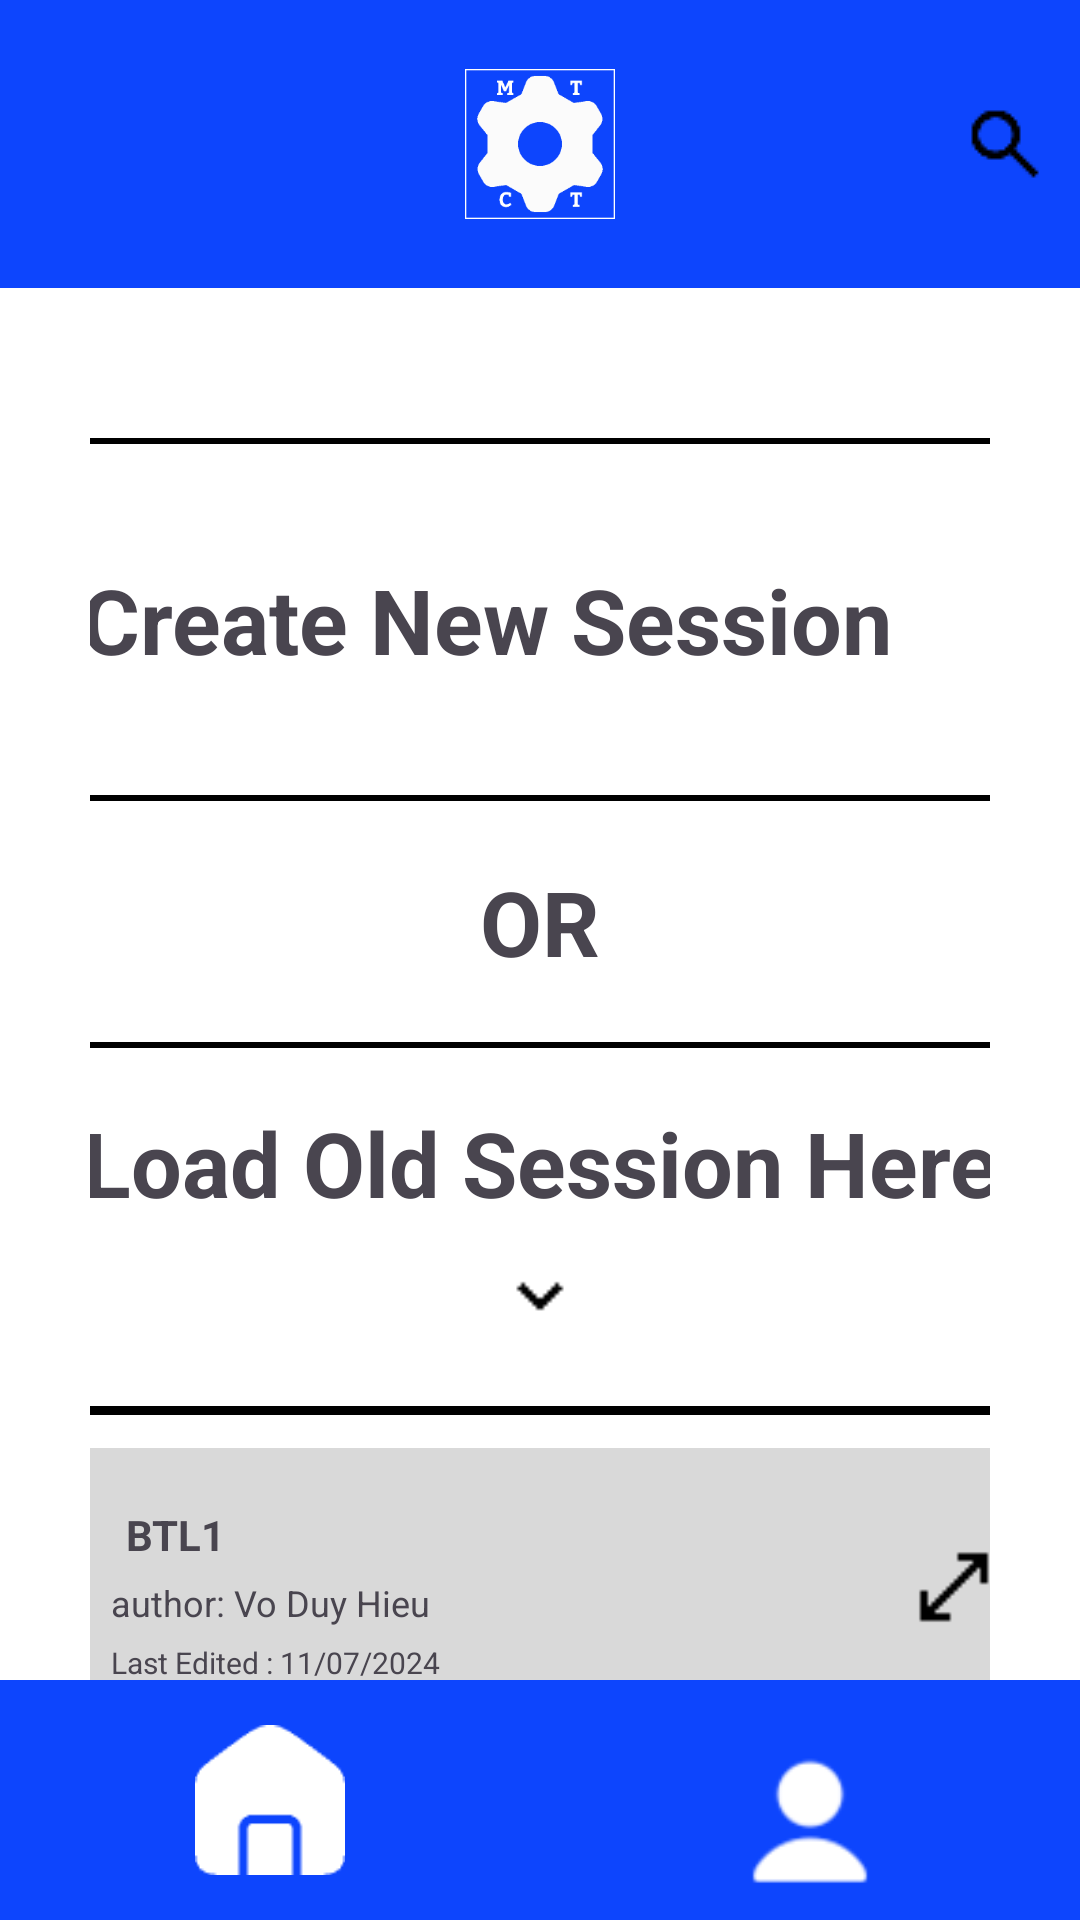

Where to tap for icons on this 1080*1920 app screen, as point (x, y):
Home: point (270, 1800)
open in full: point (954, 1587)
search: point (1005, 144)
User: point (810, 1821)
